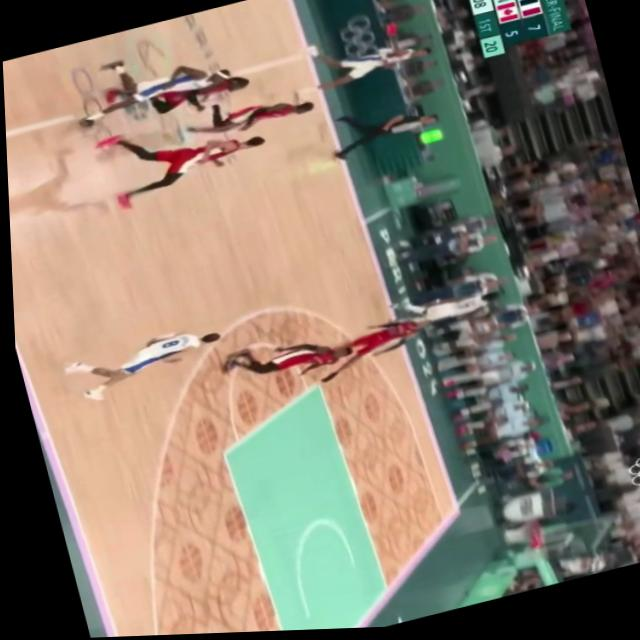ball_handler: (61, 321, 223, 392)
